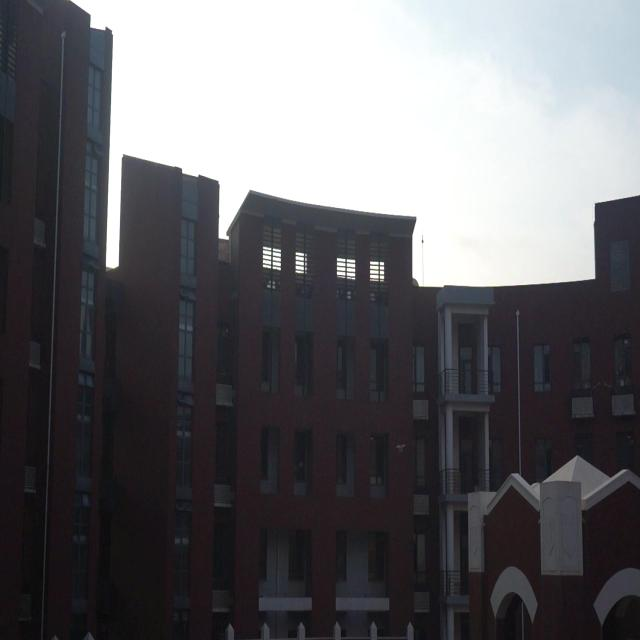drone: (395, 436, 406, 458)
